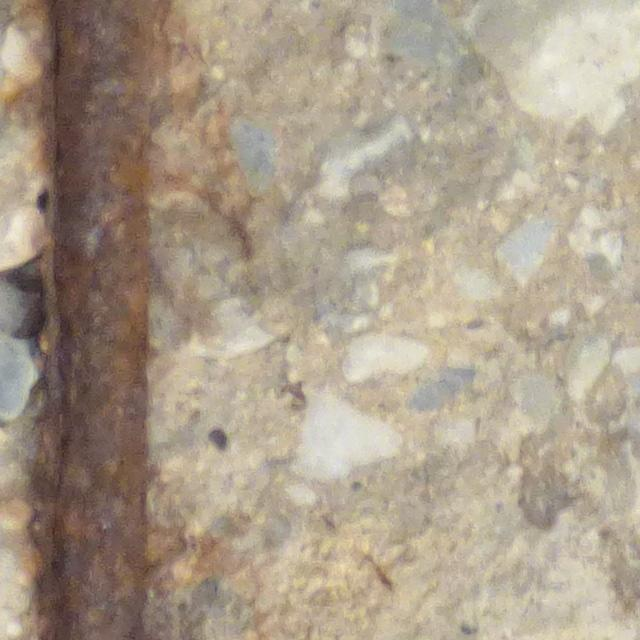Rust: (41, 5, 165, 638)
